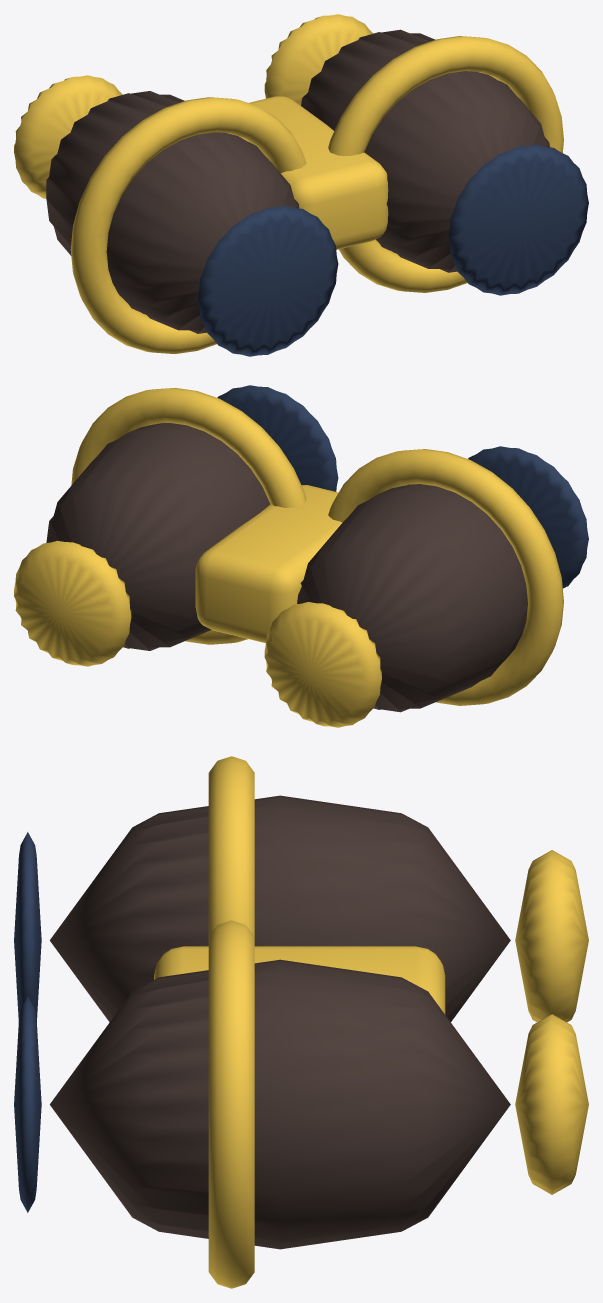
File: binoculars.glb
3 renders of one model, top to bottom at view 1: azimuth 30°, elevation 25°; view 2: azimuth 150°, elevation 25°; view 3: azimuth 270°, elevation 25°, orthographic. The views are drawn at different scales.
Visible parts, largest first — view 1: barrel-1, barrel1, band-1, frontlens-1, frontlens1, band1, bridge, eyepiece-1, eyepiece1; view 2: barrel-1, barrel1, band-1, bridge, eyepiece-1, eyepiece1, band1, frontlens-1, frontlens1; view 3: barrel1, barrel-1, band1, eyepiece1, eyepiece-1, band-1, bridge, frontlens1, frontlens-1.
Part boxes in pixels (x1=…): barrel-1: x1=46, y1=91, x2=299, y2=333; barrel1: x1=301, y1=29, x2=549, y2=272; band-1: x1=70, y1=97, x2=306, y2=353; frontlens-1: x1=197, y1=205, x2=338, y2=356; frontlens1: x1=448, y1=144, x2=588, y2=295; band1: x1=328, y1=36, x2=563, y2=292; bridge: x1=249, y1=96, x2=388, y2=249; eyepiece-1: x1=14, y1=75, x2=122, y2=198; eyepiece1: x1=264, y1=14, x2=373, y2=105; barrel-1: x1=297, y1=484, x2=537, y2=712; barrel1: x1=46, y1=423, x2=287, y2=650; band-1: x1=328, y1=449, x2=563, y2=705; bridge: x1=195, y1=485, x2=342, y2=643; eyepiece-1: x1=264, y1=602, x2=381, y2=727; eyepiece1: x1=14, y1=540, x2=131, y2=666; band1: x1=71, y1=388, x2=306, y2=644; frontlens-1: x1=468, y1=446, x2=588, y2=588; frontlens1: x1=217, y1=385, x2=338, y2=491; barrel1: x1=50, y1=959, x2=510, y2=1249; barrel-1: x1=50, y1=795, x2=510, y2=1022; band1: x1=208, y1=920, x2=254, y2=1288; eyepiece1: x1=515, y1=1014, x2=588, y2=1194; eyepiece-1: x1=515, y1=850, x2=588, y2=1022; band-1: x1=208, y1=756, x2=254, y2=936; bridge: x1=154, y1=946, x2=445, y2=1014; frontlens1: x1=14, y1=996, x2=41, y2=1212; frontlens-1: x1=14, y1=832, x2=41, y2=1021.
Size of the model in its own units: 0.78 by 0.38 by 0.5923.
